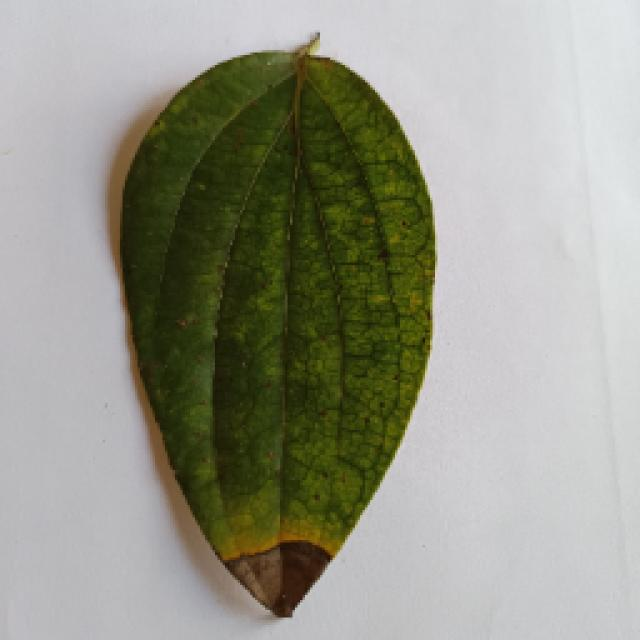footrot: (107, 45, 445, 620)
